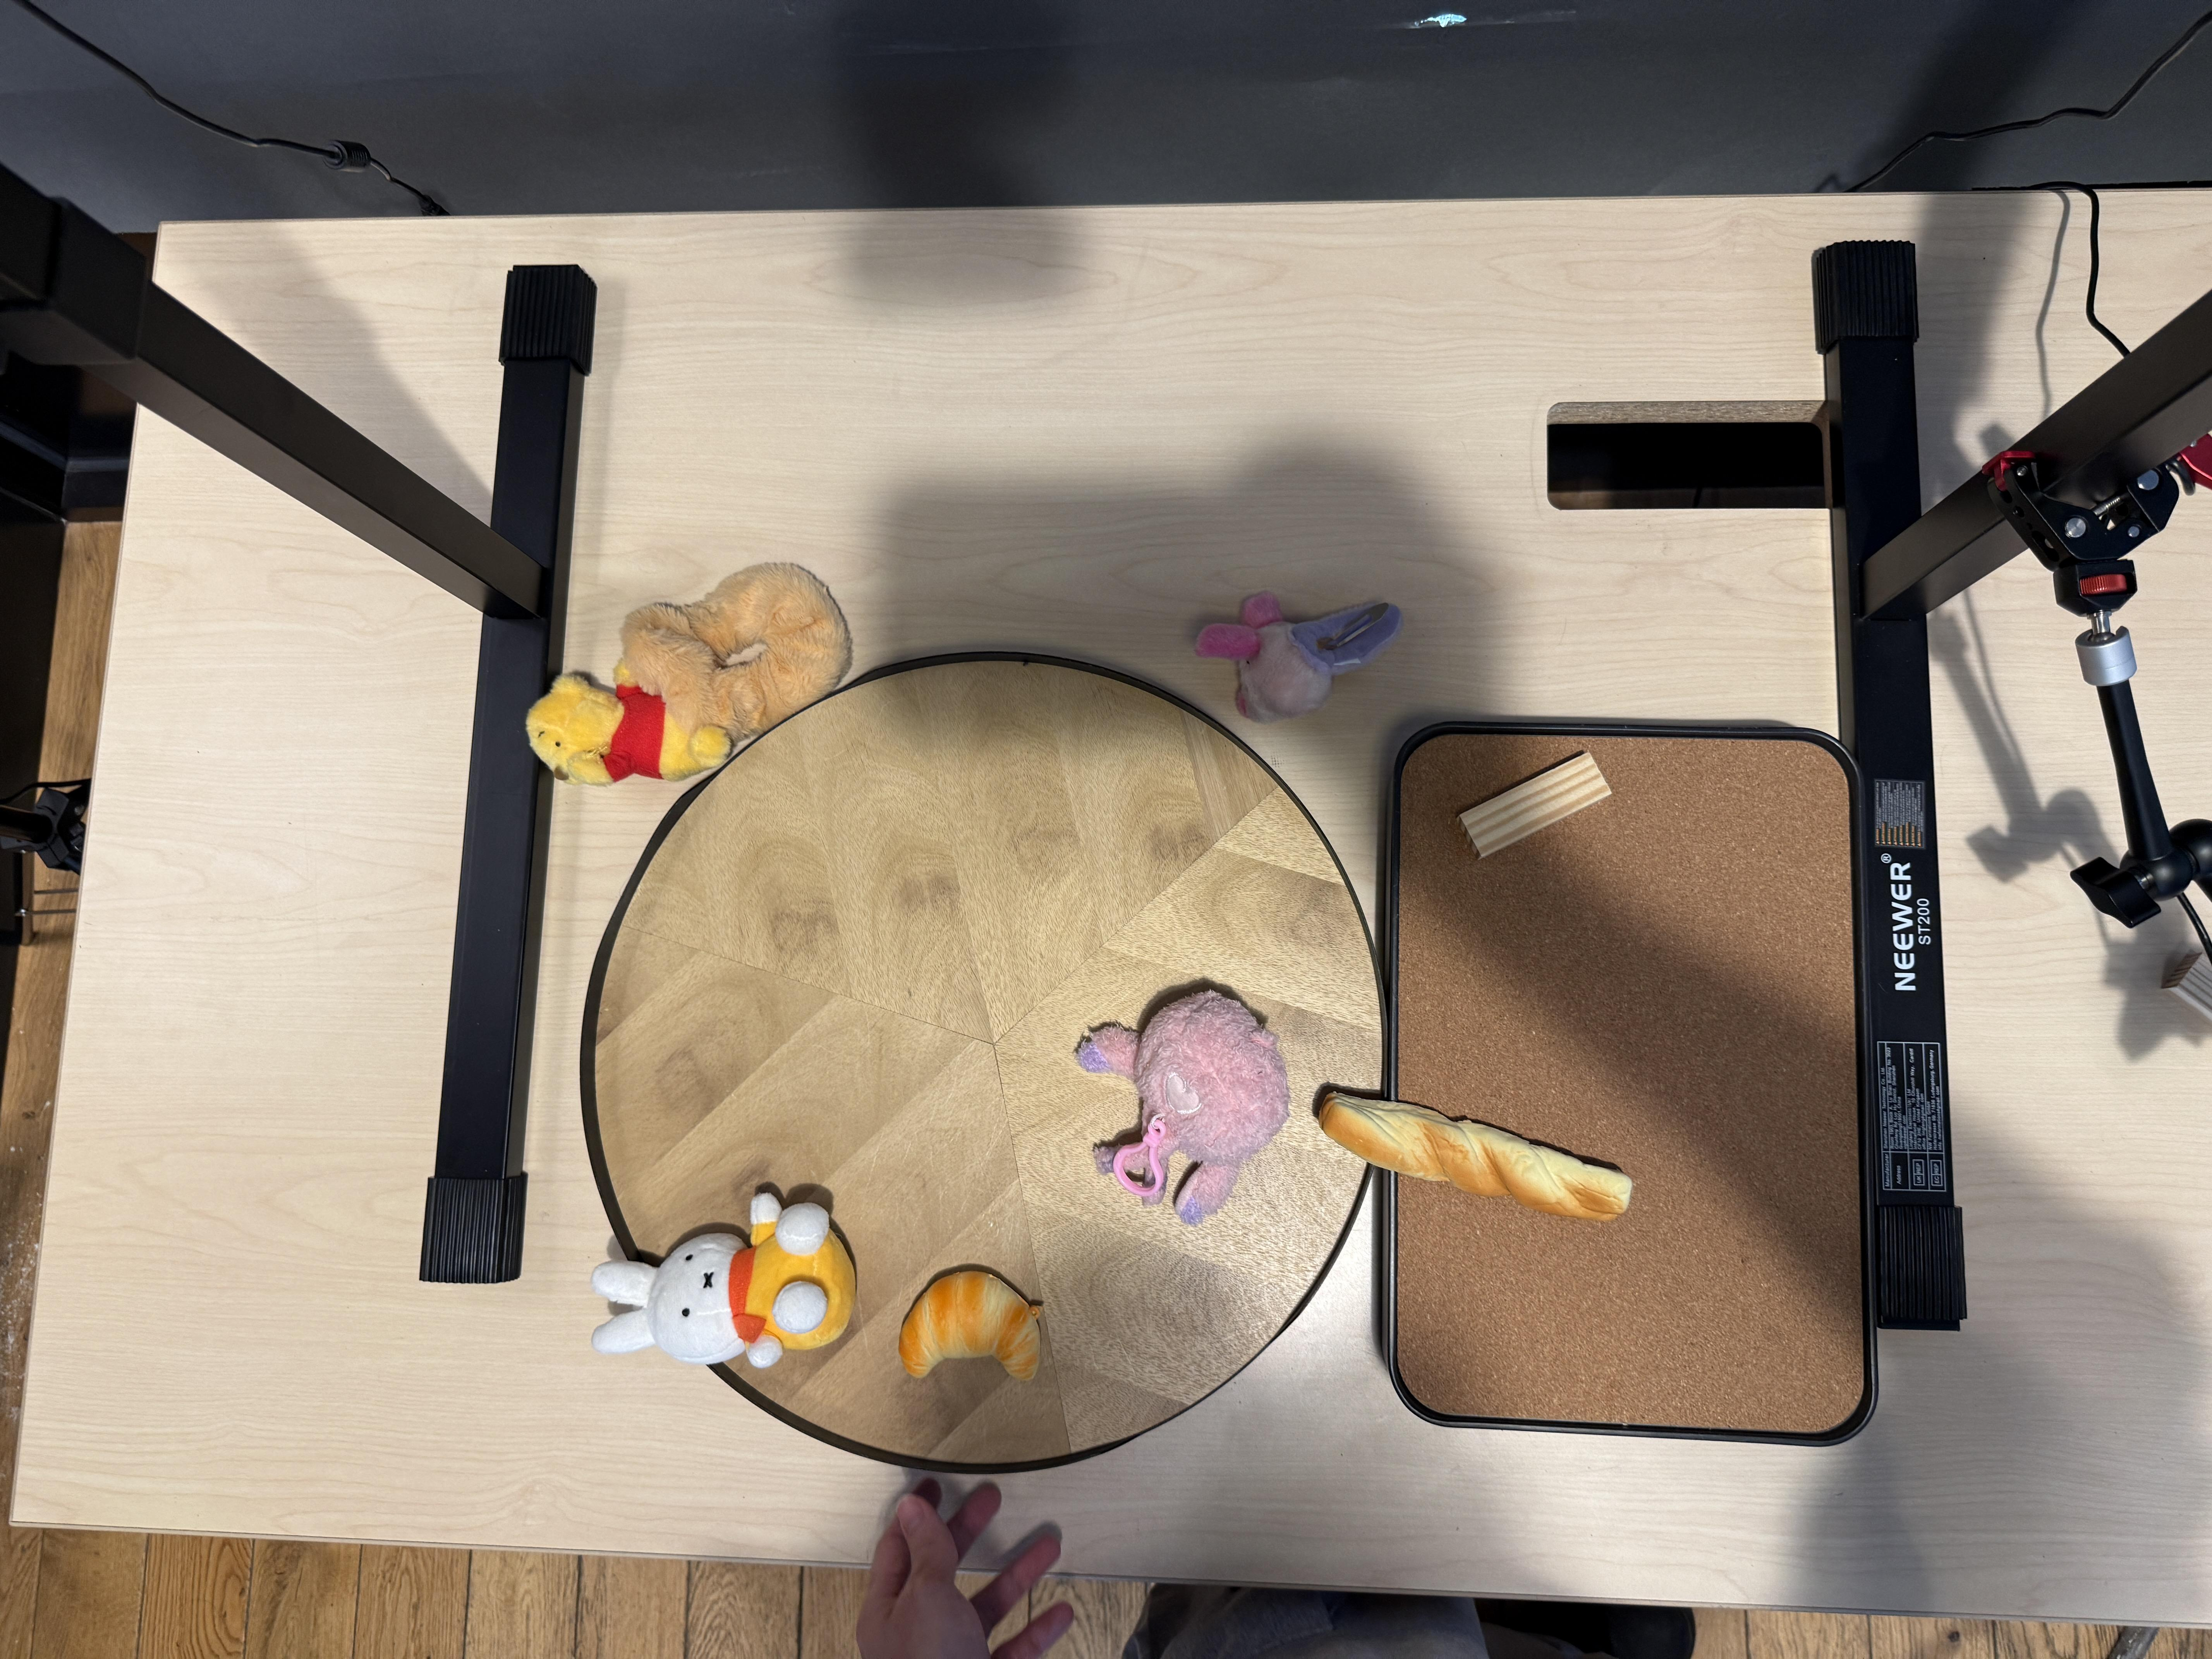block: (1456, 748, 1613, 854)
bread: (1320, 1087, 1637, 1222), (902, 1267, 1045, 1387)
doll: (524, 586, 857, 786), (1075, 981, 1292, 1222), (589, 1188, 862, 1375), (1190, 587, 1404, 725)
